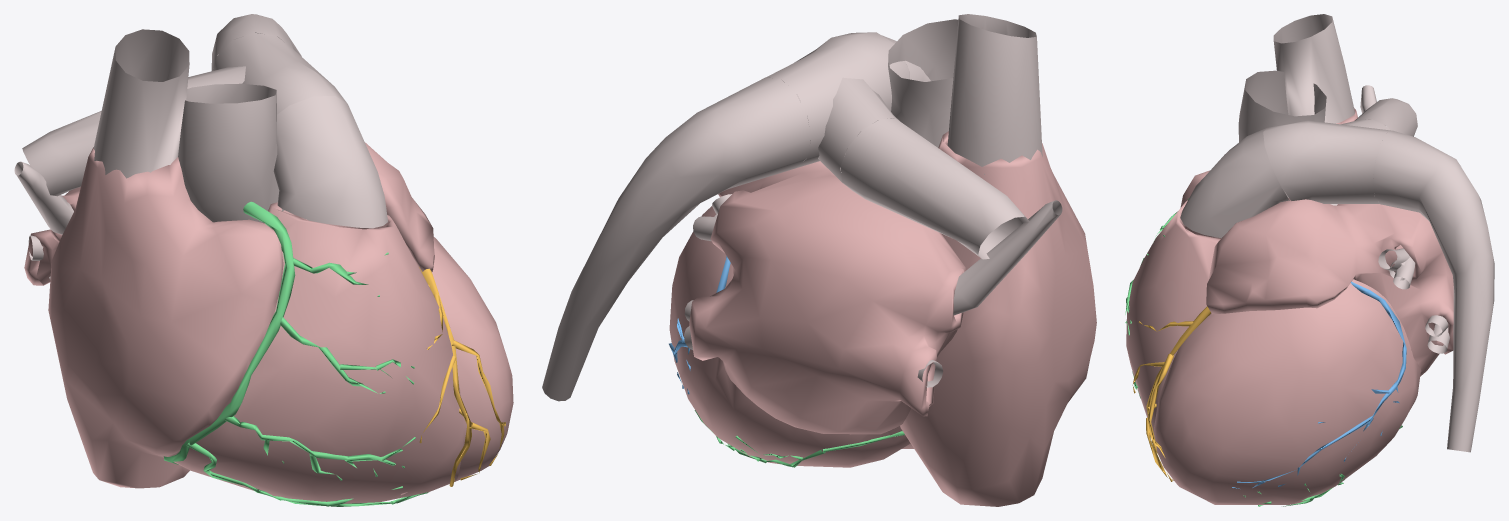
The model's file is zanatomy_heart_economy.glb.
3 views of the same model, side by side, from view 1: azimuth 30°, elevation 25°; view 2: azimuth 150°, elevation 25°; view 3: azimuth 270°, elevation 25° (orthographic). The views are drawn at different scales.
Parts seen in each view (by area): view 1: right_atrium, right_ventricle, ascending_aorta, pulmonary_trunk, superior_vena_cava, left_ventricle, right_coronary_artery, bifurcation_of_pulmonary_trunk, left_atrium, right_pulmonary_artery, anterior_interventricular_artery, right_superior_pulmonary_vein (+1 smaller); view 2: left_atrium, right_atrium, left_pulmonary_artery, right_pulmonary_artery, left_ventricle, superior_vena_cava, bifurcation_of_pulmonary_trunk, ascending_aorta, right_superior_pulmonary_vein, left_superior_pulmonary_vein; view 3: left_ventricle, left_atrium, left_pulmonary_artery, right_ventricle, bifurcation_of_pulmonary_trunk, pulmonary_trunk, superior_vena_cava, ascending_aorta, anterior_interventricular_artery, circumflex_artery_of_heart, right_pulmonary_artery, left_superior_pulmonary_vein (+1 smaller).
Boxes of the visible parts, x1,y1,x2,y2 form: right_atrium: (48, 147, 283, 488); right_ventricle: (166, 202, 463, 503); ascending_aorta: (178, 83, 284, 222); pulmonary_trunk: (273, 96, 387, 228); superior_vena_cava: (93, 29, 189, 178); left_ventricle: (432, 237, 513, 481); right_coronary_artery: (163, 201, 428, 506); bifurcation_of_pulmonary_trunk: (187, 32, 347, 114); left_atrium: (24, 142, 434, 285); right_pulmonary_artery: (22, 111, 101, 196); anterior_interventricular_artery: (419, 267, 506, 486); right_superior_pulmonary_vein: (14, 161, 73, 234); left_atrium: (689, 161, 965, 434); right_atrium: (900, 131, 1096, 506); left_pulmonary_artery: (542, 77, 810, 401); right_pulmonary_artery: (840, 118, 1029, 259); left_ventricle: (669, 206, 910, 467); superior_vena_cava: (947, 14, 1042, 174); bifurcation_of_pulmonary_trunk: (766, 32, 909, 184); ascending_aorta: (888, 19, 958, 147); right_superior_pulmonary_vein: (953, 200, 1062, 315); left_superior_pulmonary_vein: (693, 194, 731, 241); left_ventricle: (1154, 279, 1420, 504); left_atrium: (1206, 198, 1453, 376); left_pulmonary_artery: (1373, 130, 1494, 452); right_ventricle: (1126, 200, 1221, 436); bifurcation_of_pulmonary_trunk: (1263, 119, 1391, 203); pulmonary_trunk: (1180, 128, 1289, 238); superior_vena_cava: (1273, 14, 1354, 123); ascending_aorta: (1238, 70, 1337, 205); anterior_interventricular_artery: (1132, 306, 1211, 481); circumflex_artery_of_heart: (1232, 281, 1406, 488); right_pulmonary_artery: (1354, 98, 1417, 136); left_superior_pulmonary_vein: (1378, 248, 1415, 289).
Bounding box in the file's own units: 1.14 × 1.18 × 1.02.
